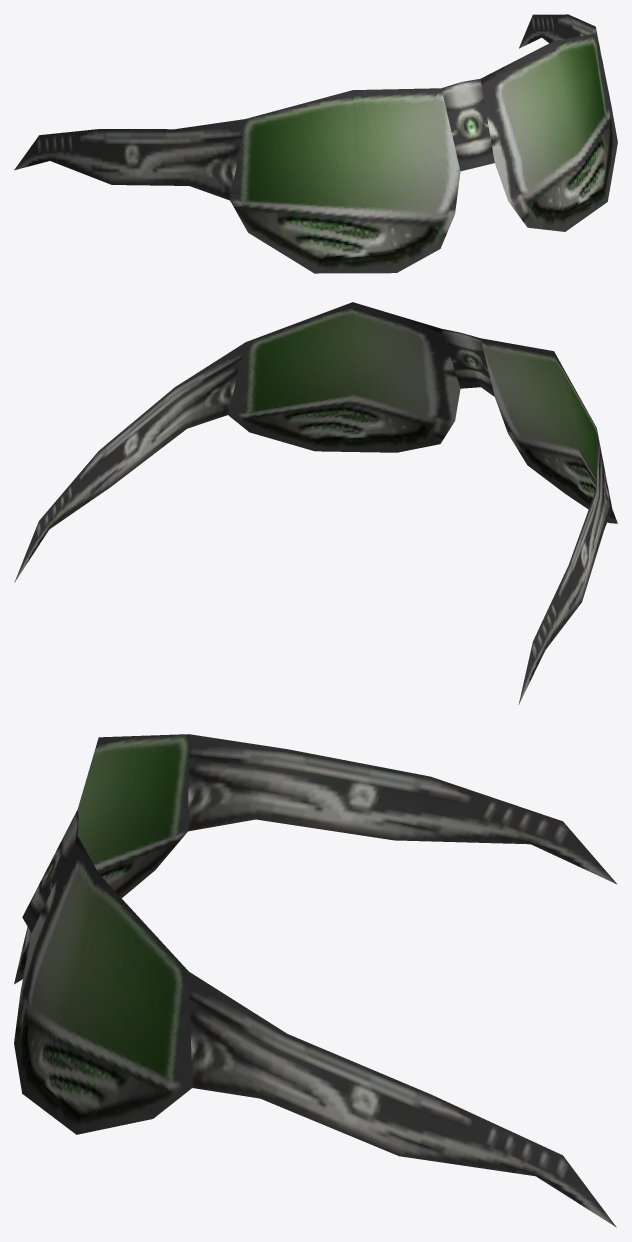
File: Glasses3.glb
3 renders of one model, top to bottom at view 1: azimuth 30°, elevation 25°; view 2: azimuth 150°, elevation 25°; view 3: azimuth 270°, elevation 25°, orthographic. The views are drawn at different scales.
Visible parts, largest first — view 1: Glasses3; view 2: Glasses3; view 3: Glasses3.
Part boxes in pixels (<box>): Glasses3: <box>14,14,617,273</box>; Glasses3: <box>14,302,617,704</box>; Glasses3: <box>14,734,617,1227</box>.
Size of the model in its own units: 9.46 by 3.26 by 7.08.
1 material, 1 textured.
